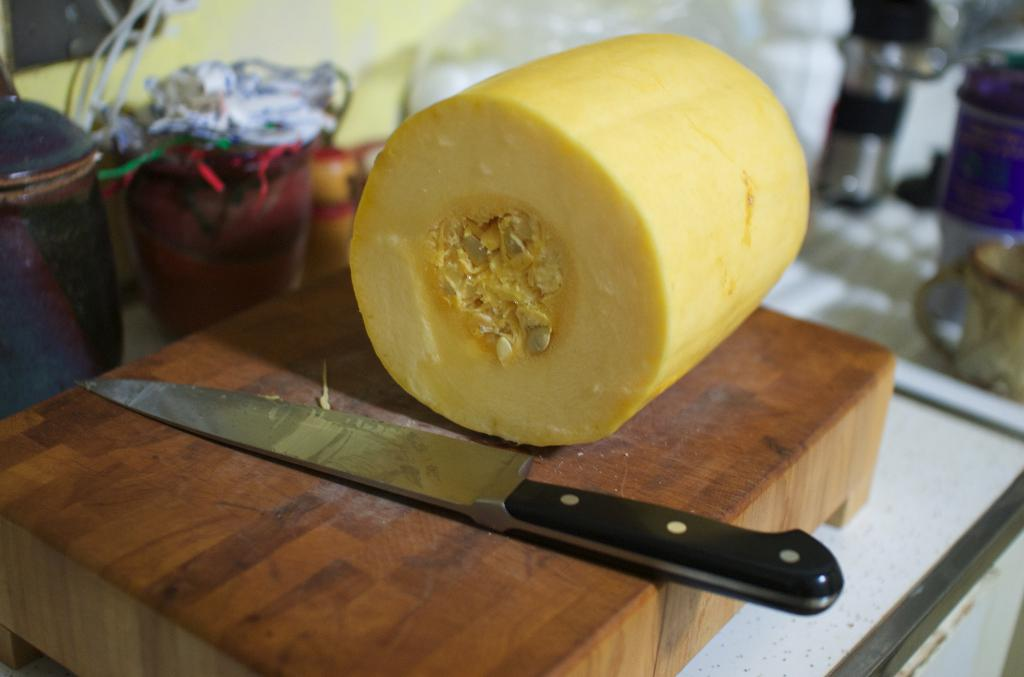kitchen knife: (76, 375, 846, 615)
